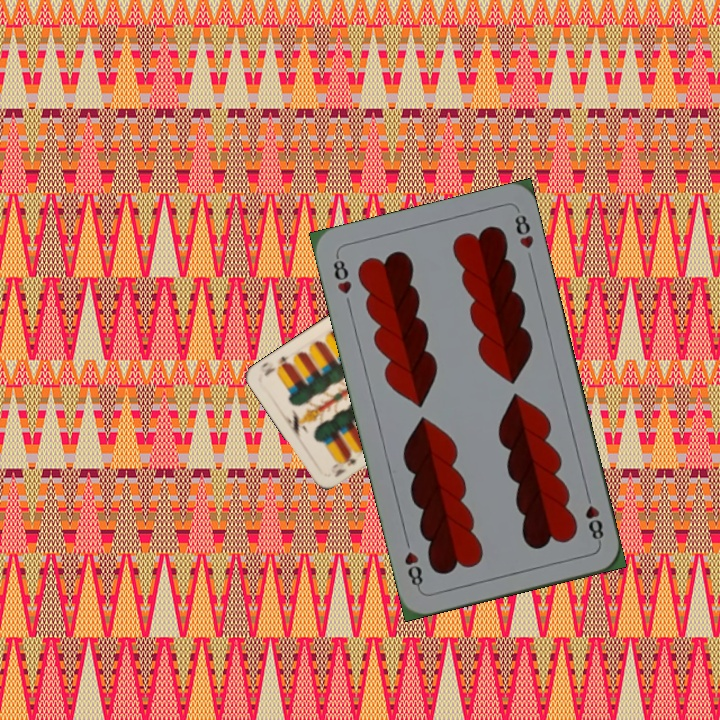E10: (327, 449, 359, 480)
H8: (581, 488, 606, 546), (329, 251, 354, 297)
